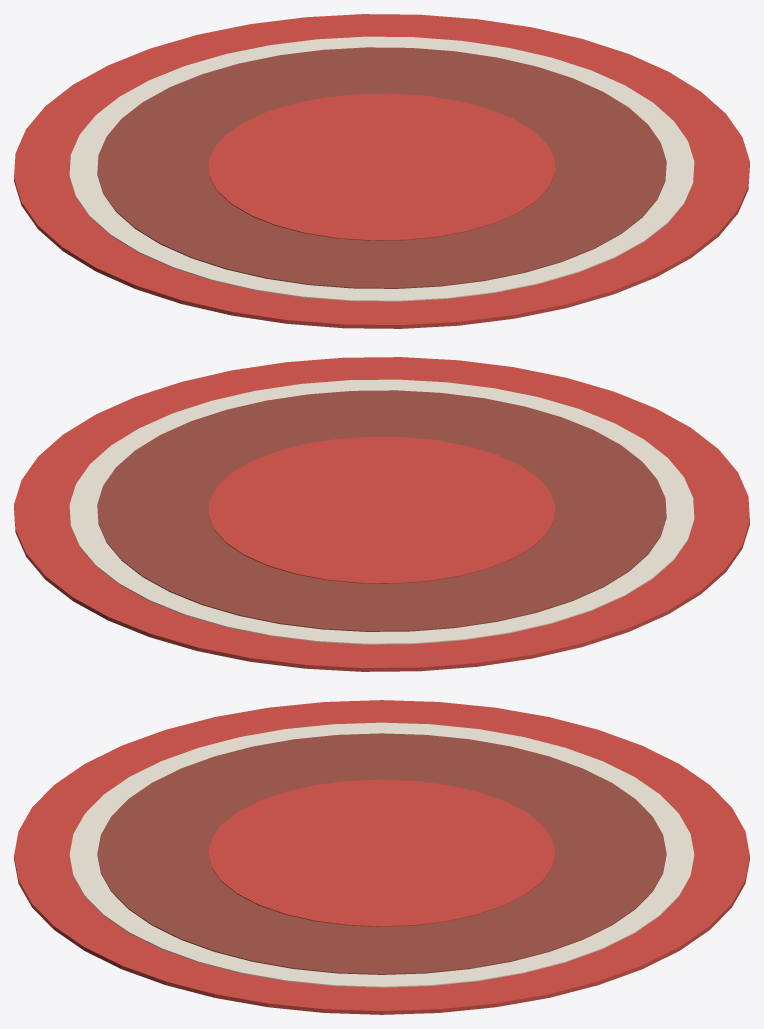
The model's file is rug-round.glb.
3 renders of one model, top to bottom at view 1: azimuth 30°, elevation 25°; view 2: azimuth 150°, elevation 25°; view 3: azimuth 270°, elevation 25°, orthographic.
Parts seen in each view (by area): view 1: rug-round; view 2: rug-round; view 3: rug-round.
Part boxes in pixels (bbox=[...]): rug-round: bbox=[14, 14, 749, 328]; rug-round: bbox=[14, 357, 749, 671]; rug-round: bbox=[14, 700, 749, 1014].
Size of the model in its own units: 2.12 by 0.0205 by 2.12.
